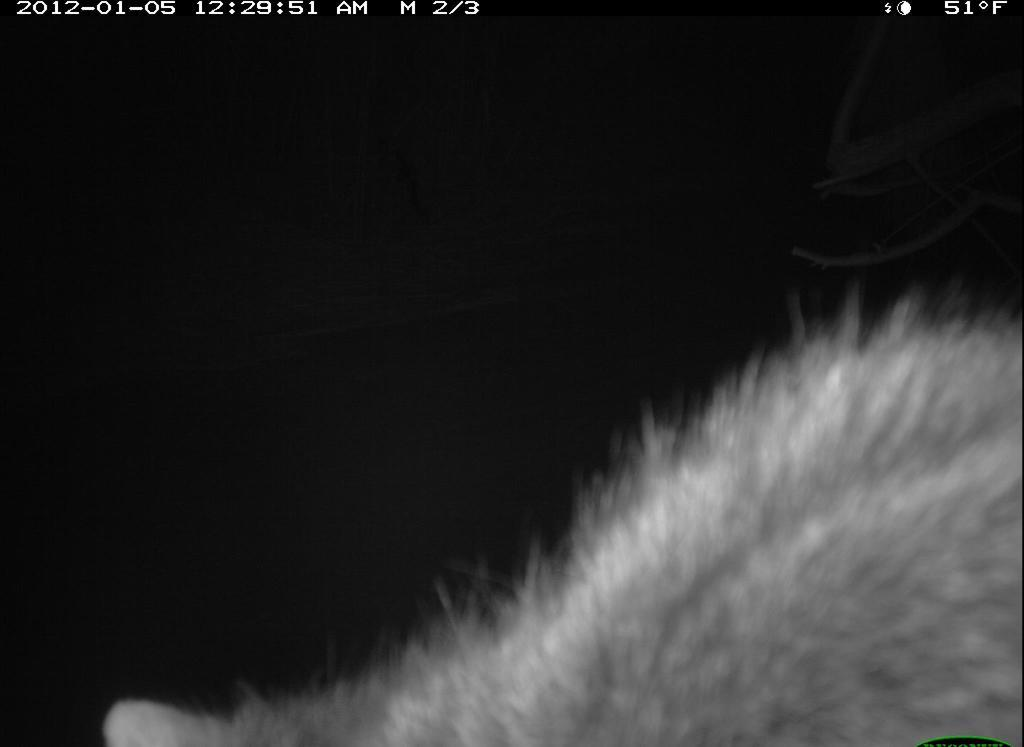raccoon: (95, 276, 1018, 747)
